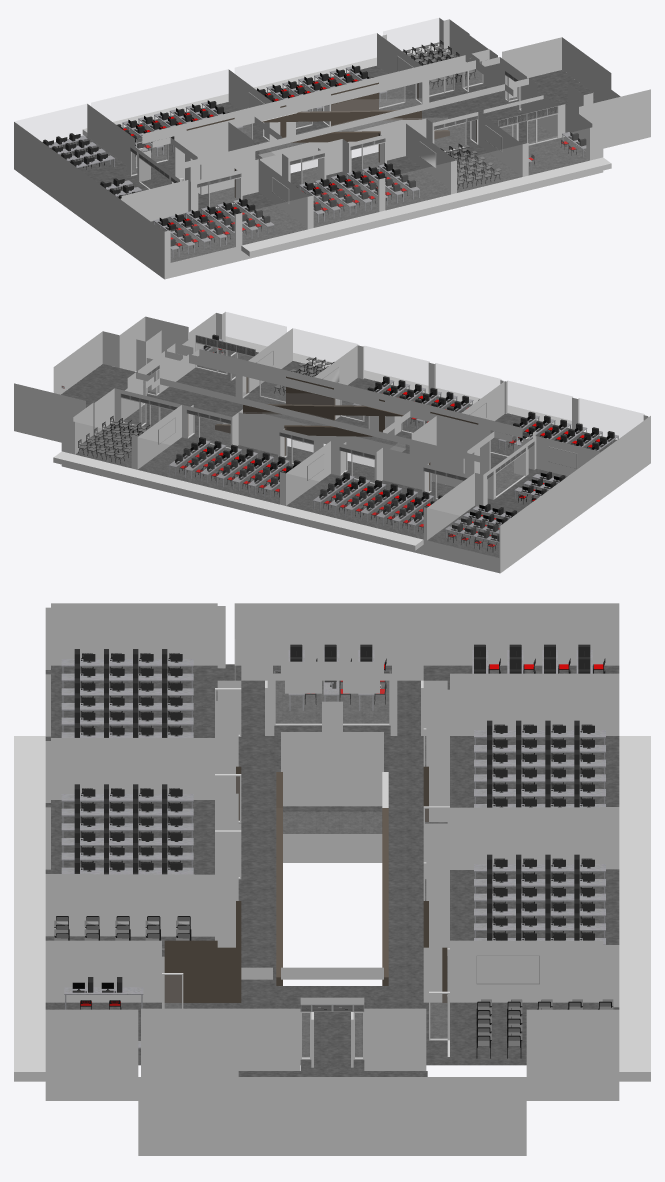
Rendered from EISCSecondFloor.glb.
3 renders of one model, top to bottom at view 1: azimuth 30°, elevation 25°; view 2: azimuth 150°, elevation 25°; view 3: azimuth 270°, elevation 25°, orthographic. The views are drawn at different scales.
Parts seen in each view (by area): view 1: StructureSecondFloor, SecondFloor, ComputersRoom6, ComputersRoom5, DesksComputerRoom6, DesksComputerRoom5, Chairs2002, ComputersRoom2, ComputersRoom1, Chairs2008, ComputersRoom4Back, DesksComputerRoom2 (+4 smaller); view 2: StructureSecondFloor, SecondFloor, ComputersRoom1, ComputersRoom2, Chairs2008, DesksComputerRoom2, DesksComputerRoom1, ComputersRoom5, ComputersRoom4Back, ComputersRoom6, ChairsComputerRoom1, DesksComputerRoom5 (+6 smaller); view 3: StructureSecondFloor, SecondFloor, DesksComputerRoom6, ComputersRoom1, ComputersRoom2, DesksComputerRoom5, ComputersRoom6, ComputersRoom5, DesksComputerRoom2, DesksComputerRoom1, Chairs2008, Whiteboard2008 (+6 smaller).
Part boxes in pixels (left/top/right/bottom): StructureSecondFloor: left=14, top=18, right=650, bottom=279; SecondFloor: left=51, top=51, right=594, bottom=262; ComputersRoom6: left=296, top=162, right=415, bottom=211; ComputersRoom5: left=157, top=198, right=270, bottom=246; DesksComputerRoom6: left=299, top=164, right=419, bottom=222; DesksComputerRoom5: left=153, top=199, right=274, bottom=257; Chairs2002: left=440, top=144, right=501, bottom=189; ComputersRoom2: left=117, top=100, right=230, bottom=148; ComputersRoom1: left=257, top=65, right=374, bottom=101; Chairs2008: left=402, top=40, right=475, bottom=88; ComputersRoom4Back: left=43, top=133, right=107, bottom=166; DesksComputerRoom2: left=122, top=101, right=242, bottom=156; StructureSecondFloor: left=14, top=312, right=650, bottom=573; SecondFloor: left=61, top=347, right=616, bottom=557; ComputersRoom1: left=175, top=437, right=300, bottom=487; ComputersRoom2: left=319, top=472, right=442, bottom=522; Chairs2008: left=78, top=416, right=150, bottom=463; DesksComputerRoom2: left=313, top=475, right=433, bottom=533; DesksComputerRoom1: left=168, top=440, right=289, bottom=498; ComputersRoom5: left=513, top=411, right=614, bottom=450; ComputersRoom4Back: left=451, top=503, right=516, bottom=541; ComputersRoom6: left=367, top=376, right=479, bottom=411; ChairsComputerRoom1: left=179, top=449, right=286, bottom=497; DesksComputerRoom5: left=498, top=415, right=618, bottom=450; StructureSecondFloor: left=14, top=603, right=650, bottom=1155; SecondFloor: left=45, top=664, right=619, bottom=1076; DesksComputerRoom6: left=61, top=794, right=193, bottom=874; ComputersRoom1: left=487, top=854, right=594, bottom=940; ComputersRoom2: left=487, top=720, right=594, bottom=807; DesksComputerRoom5: left=61, top=659, right=193, bottom=737; ComputersRoom6: left=74, top=784, right=182, bottom=874; ComputersRoom5: left=74, top=649, right=182, bottom=737; DesksComputerRoom2: left=474, top=730, right=605, bottom=807; DesksComputerRoom1: left=474, top=864, right=605, bottom=944; Chairs2008: left=476, top=999, right=613, bottom=1058; Whiteboard2008: left=476, top=955, right=539, bottom=984.
Bounding box in the file's own units: 42.5 × 4.5 × 24.1.
Materials: 23 (11 with a texture image).
